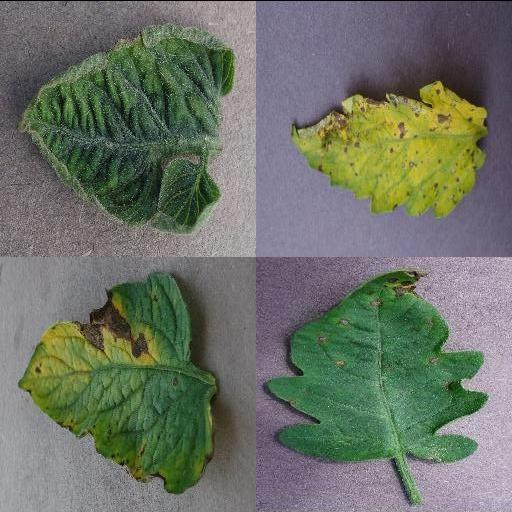Early Blight: (18, 269, 220, 490)
Septoria: (267, 267, 490, 463), (290, 80, 490, 217)
Yellow Leaf Curl Virus: (19, 25, 237, 237)
